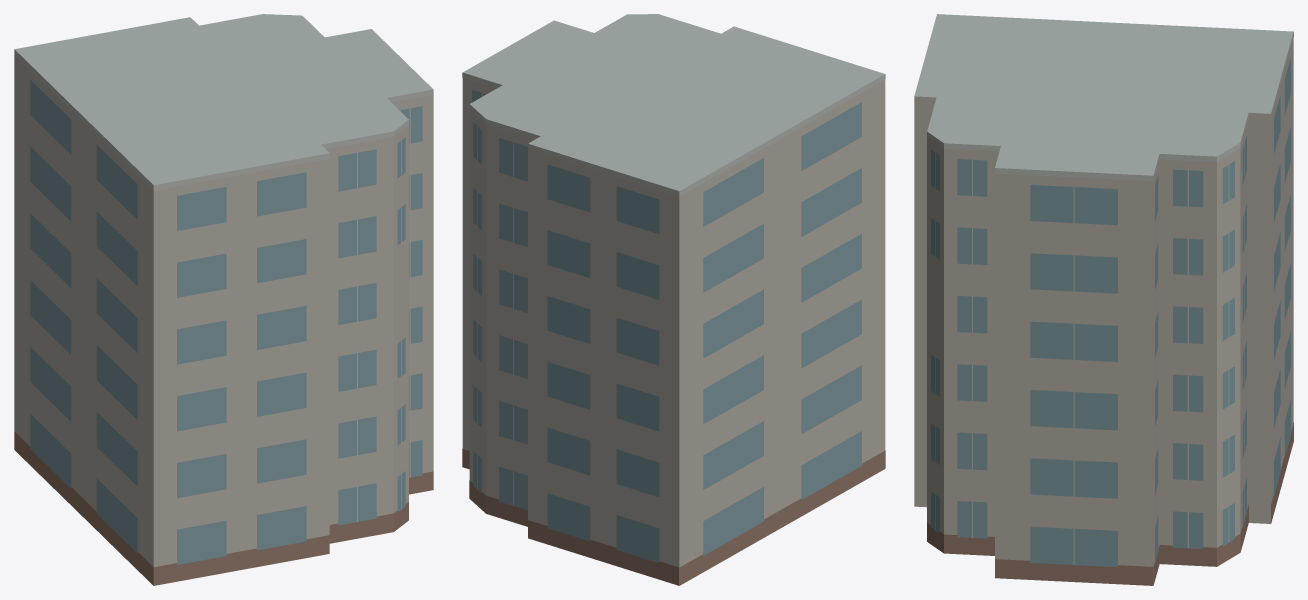
Rendered from survey-upis-33045659.glb.
3 renders of one model, left to right at view 1: azimuth 30°, elevation 25°; view 2: azimuth 150°, elevation 25°; view 3: azimuth 270°, elevation 25°, orthographic. The views are drawn at different scales.
Parts seen in each view (by area): view 1: survey-upis-33045659.tmp; view 2: survey-upis-33045659.tmp; view 3: survey-upis-33045659.tmp.
Part boxes in pixels (left/top/right/bottom): survey-upis-33045659.tmp: left=14, top=14, right=433, bottom=585; survey-upis-33045659.tmp: left=462, top=14, right=885, bottom=585; survey-upis-33045659.tmp: left=914, top=14, right=1293, bottom=585.
Bounding box in the file's own units: 15.35 × 18.15 × 15.23.
